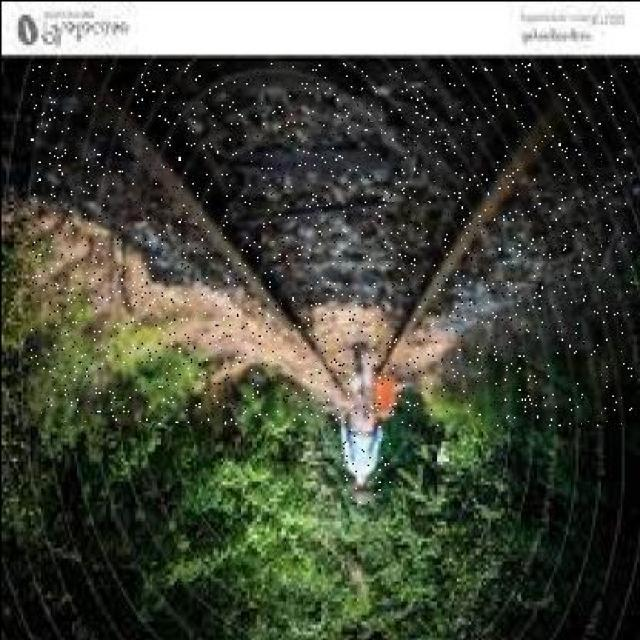danger: (332, 338, 390, 502)
rail: (31, 62, 631, 424)
